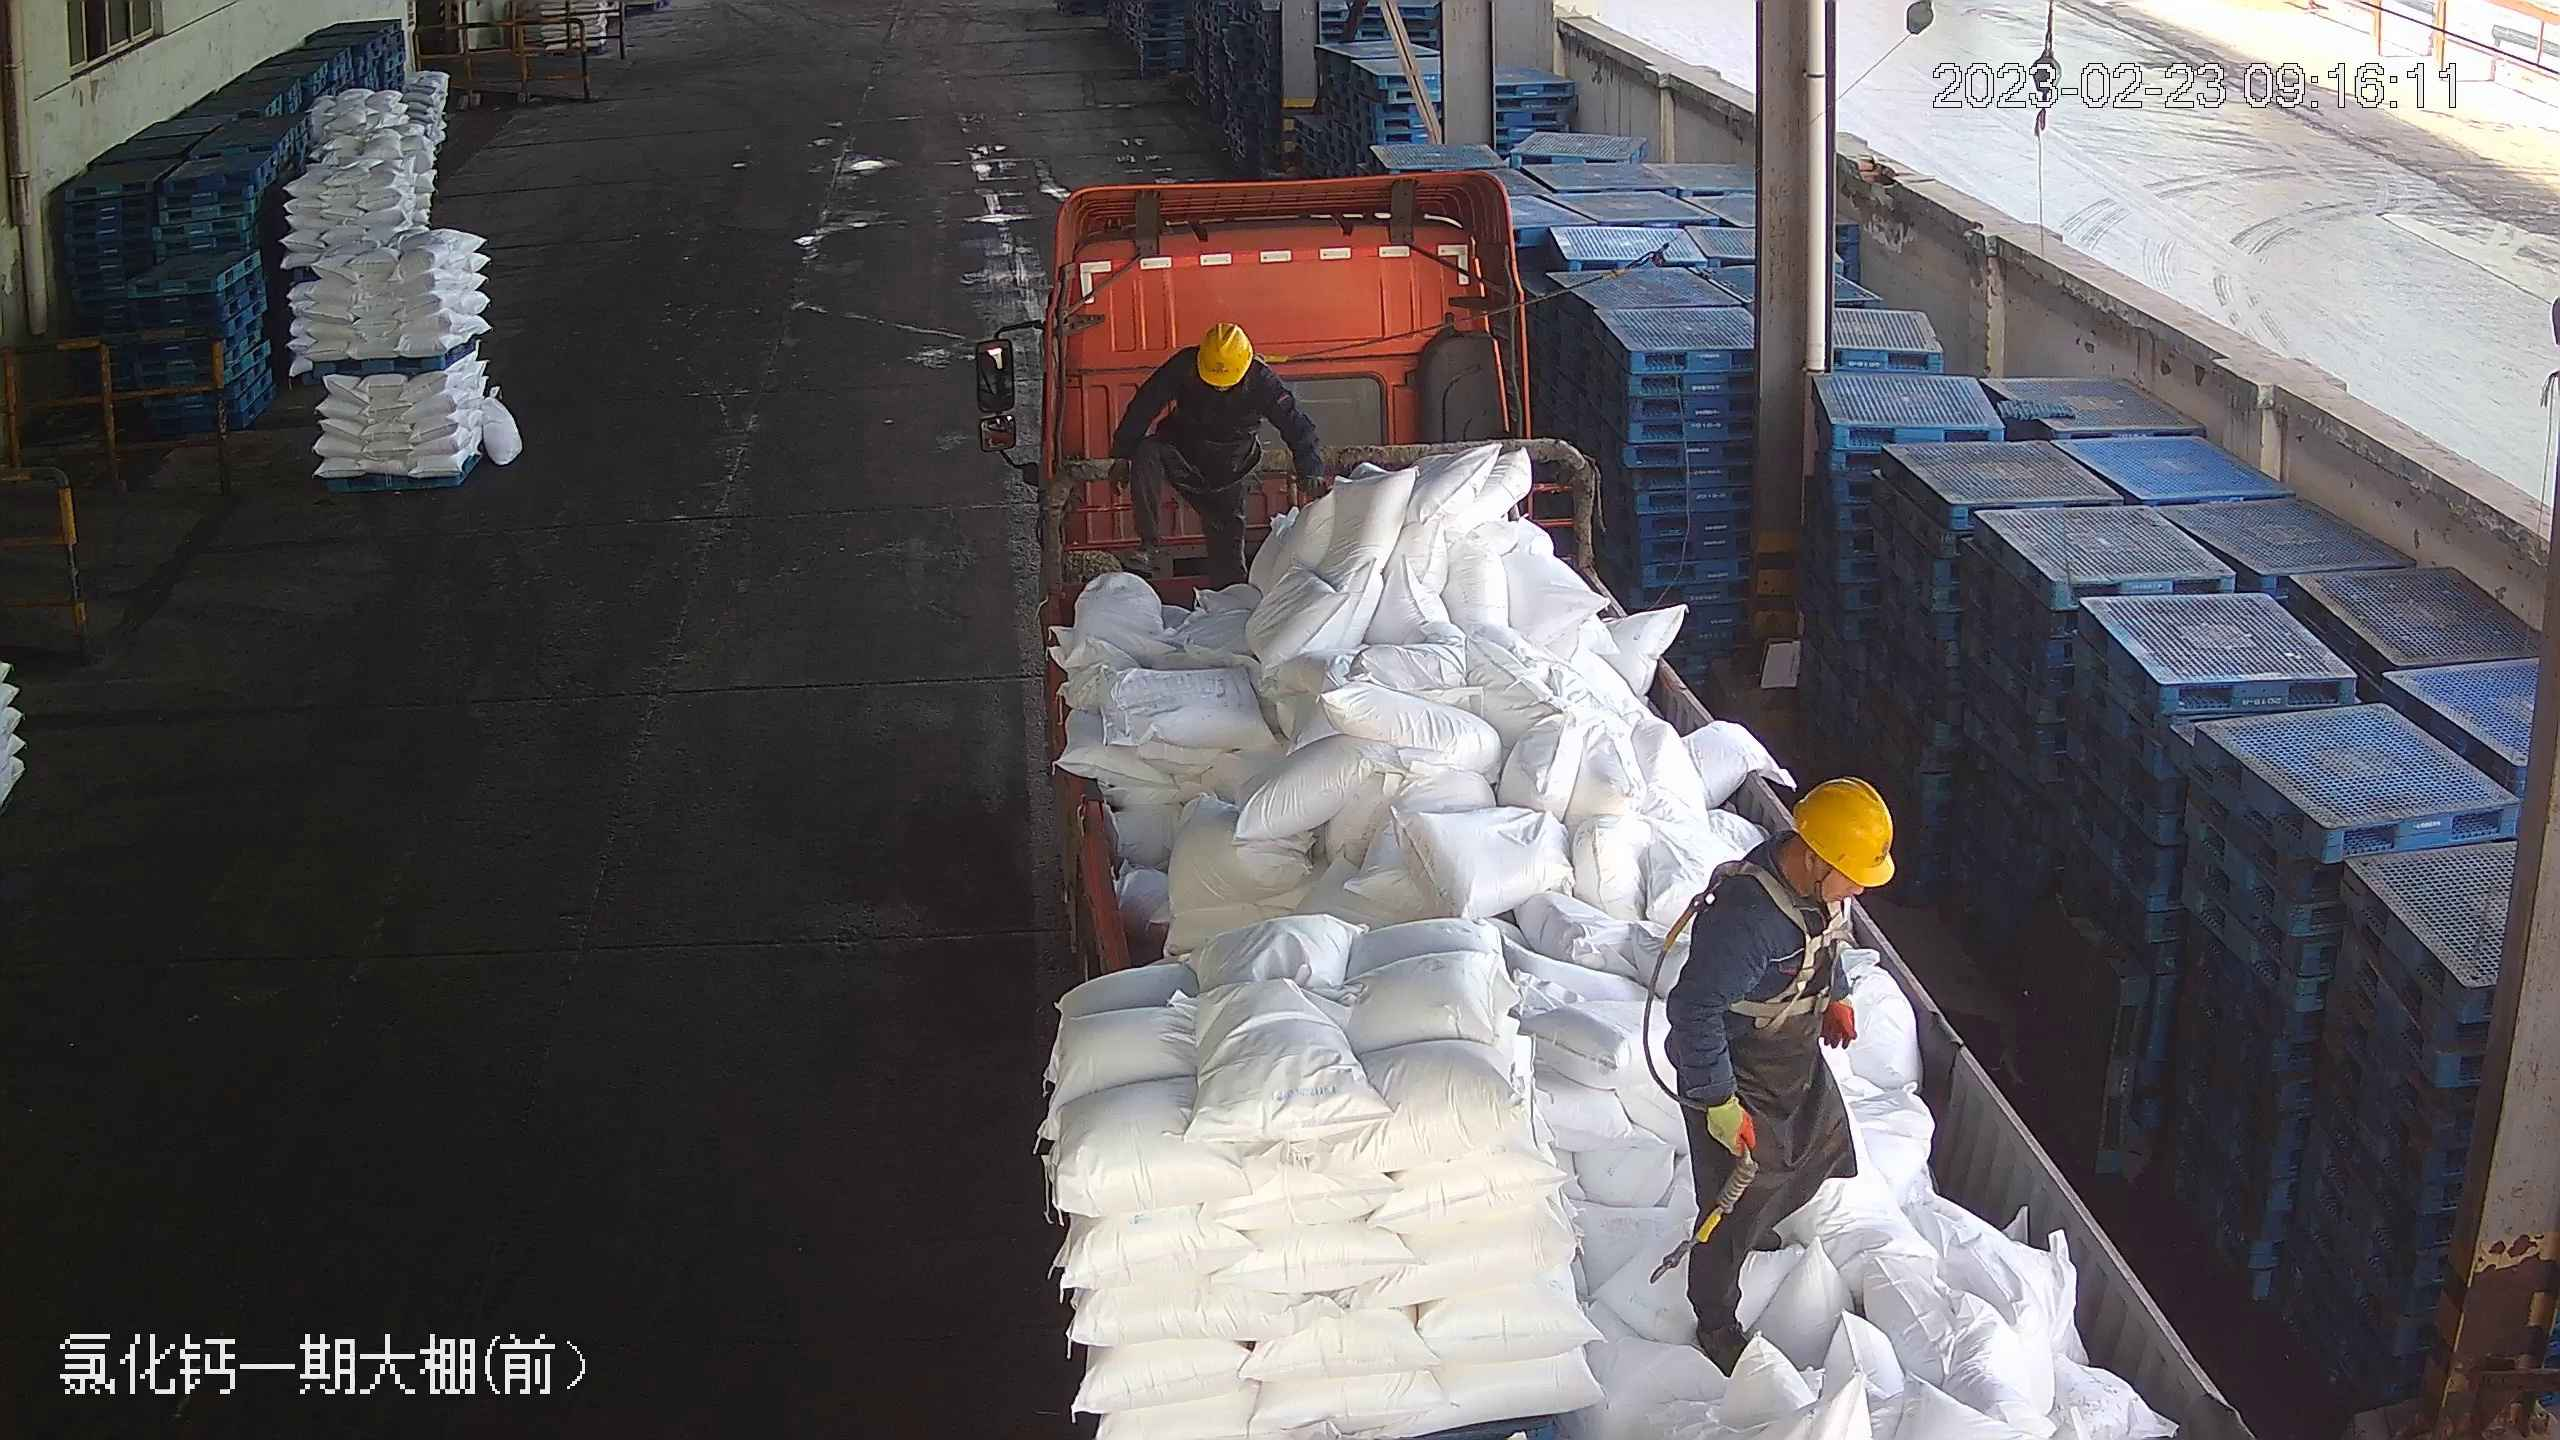belt: (1700, 870, 1868, 1029), (1250, 330, 1331, 379)
head: (1700, 778, 1898, 973), (1147, 320, 1295, 422)
helmet: (1703, 776, 1900, 967), (1160, 318, 1290, 421), (1789, 773, 1899, 887), (1194, 319, 1256, 390)
people: (1655, 774, 1896, 1381), (1105, 318, 1328, 601)
truck: (994, 167, 2265, 1431)
